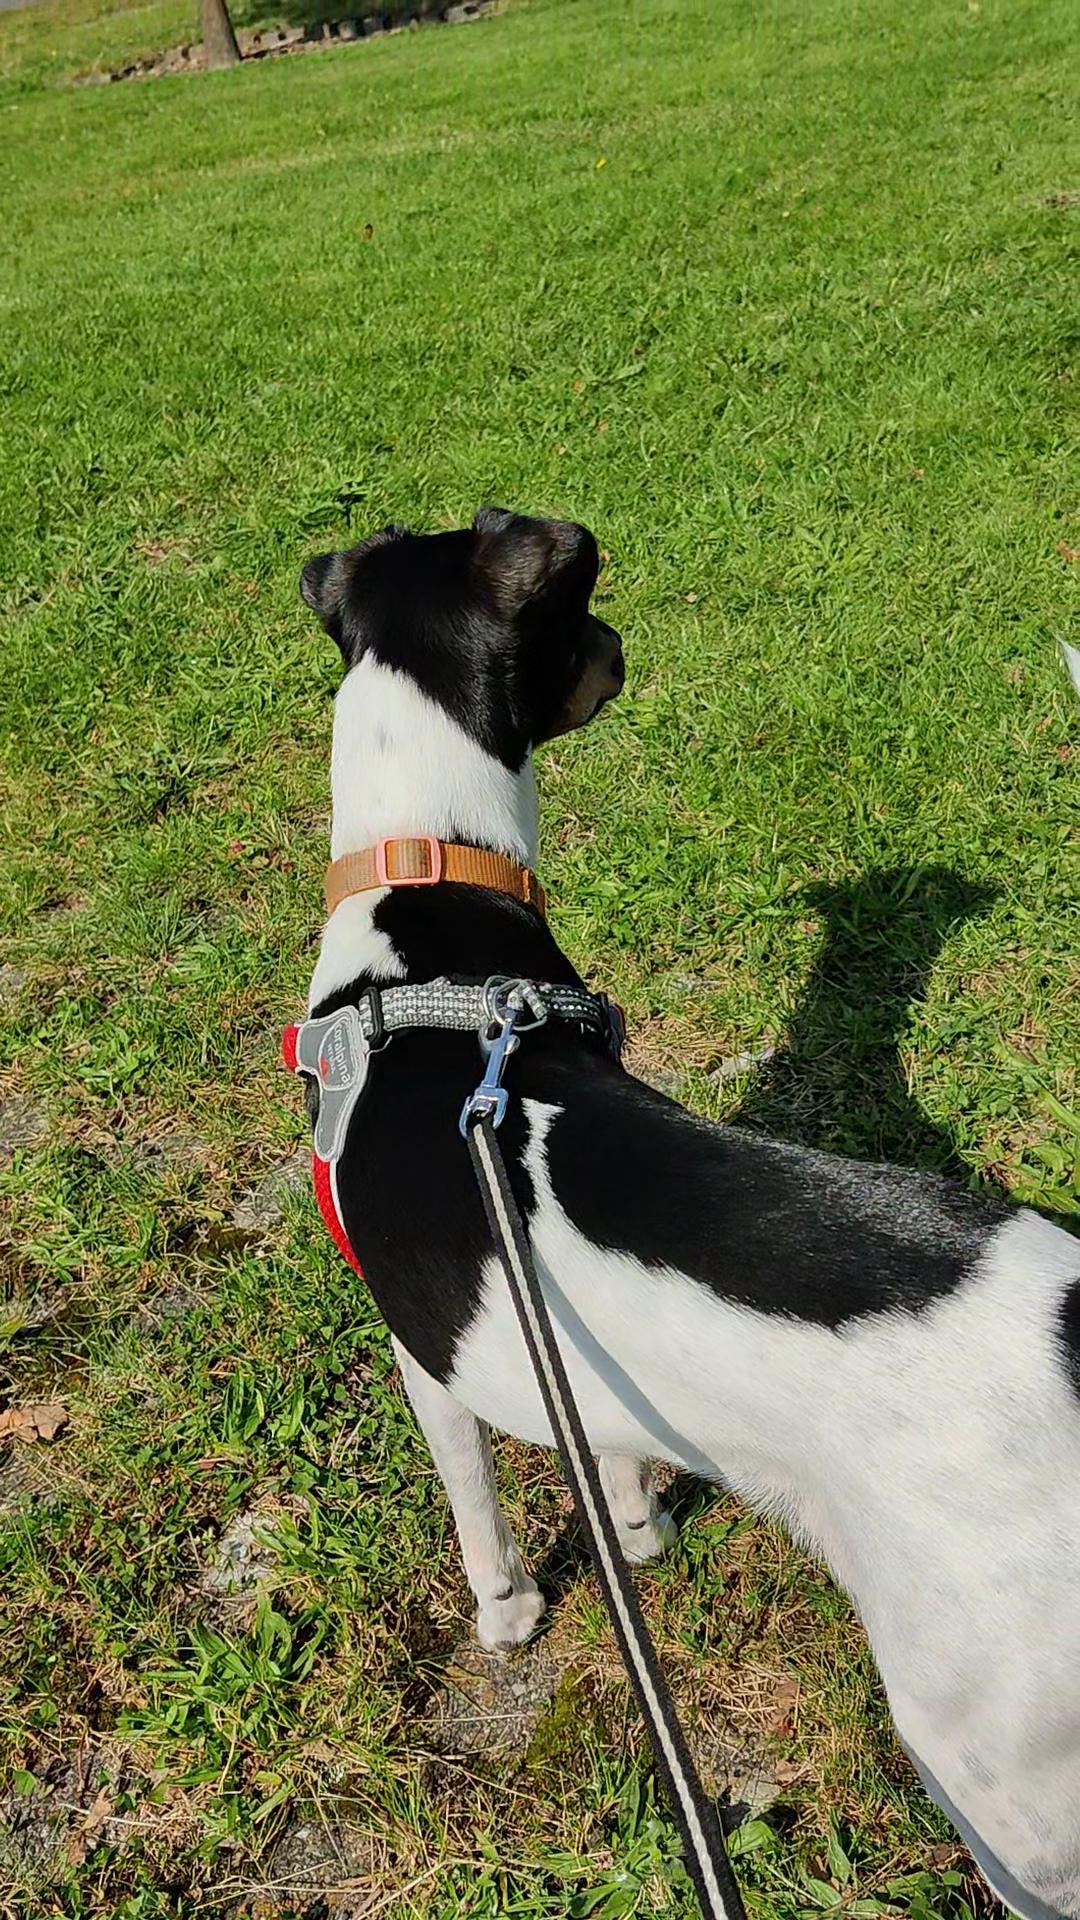Dog: (269, 495, 1079, 1919)
